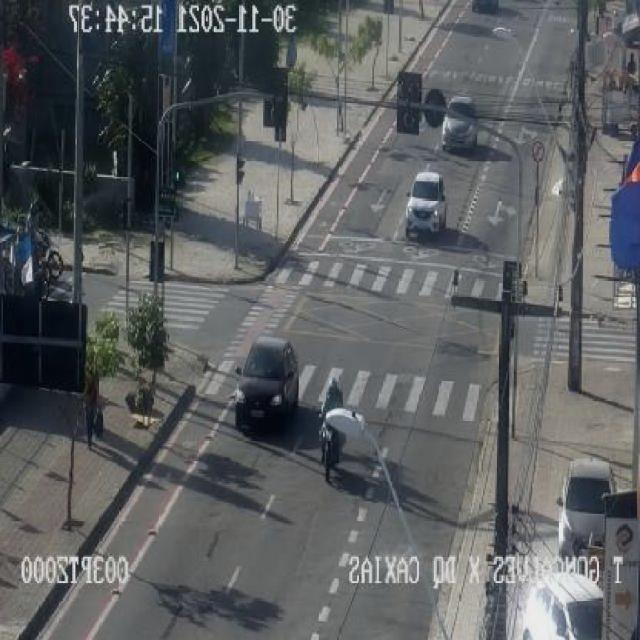car: (233, 338, 299, 432), (558, 456, 616, 555), (520, 574, 606, 640), (404, 170, 448, 238), (442, 94, 478, 148)
motorbike: (11, 201, 64, 281), (3, 214, 48, 302), (318, 378, 344, 482), (287, 35, 298, 71)
